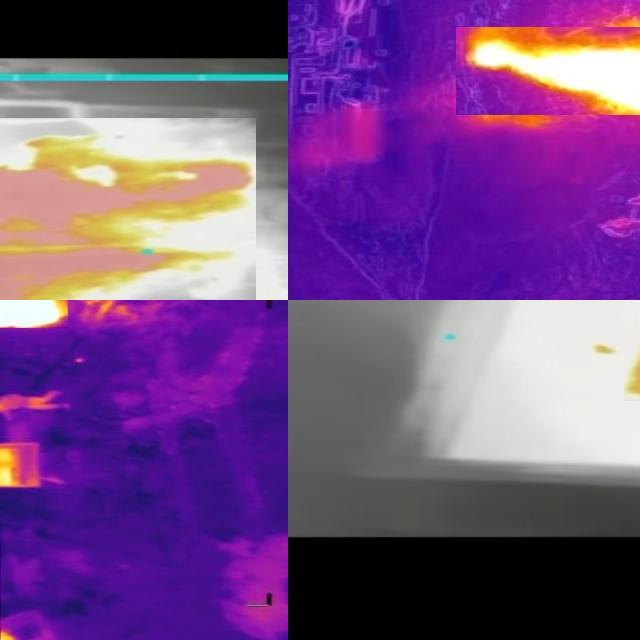fire: (1, 118, 257, 301), (457, 27, 640, 115)
